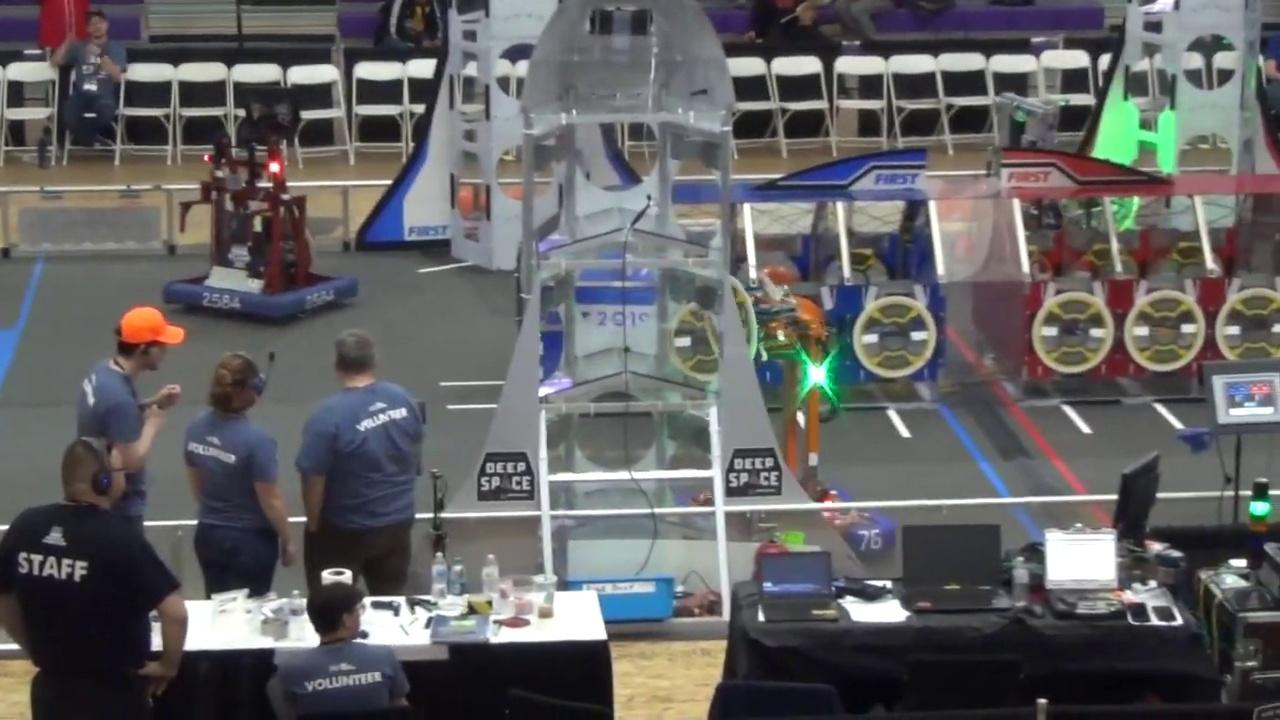robot: (730, 274, 900, 558), (158, 141, 363, 326)
